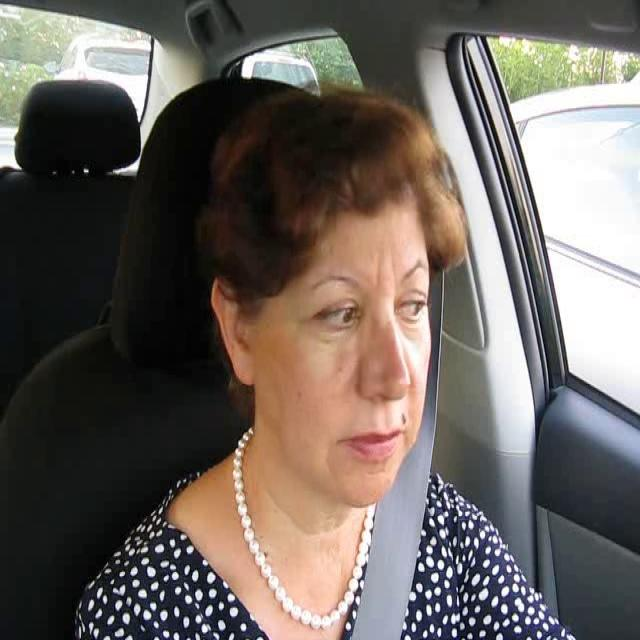close: (339, 423, 410, 463)
